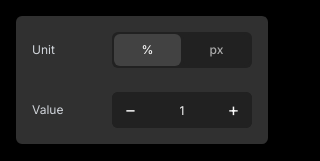
Test: NumberInput Component › Unit Selection › should switch from px to % and clamp value to 100 if value > 100
Note: Switch to px
Click the button "px" at (216, 50), box x1=183 y1=34 x2=250 y2=66
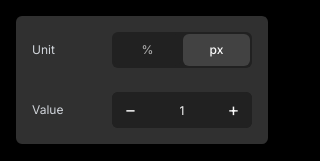
Note: Set value to 150
Replace the text in the field with "150" at (182, 110), box x1=148 y1=92 x2=216 y2=128
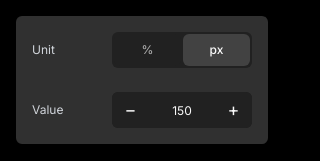
Note: Switch back to %
Click the button "%" at (148, 50), box x1=114 y1=34 x2=181 y2=66
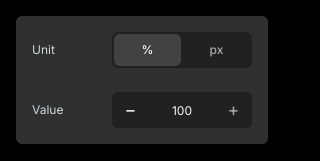
Check: the field holds "100", box x1=148 y1=92 x2=216 y2=128
